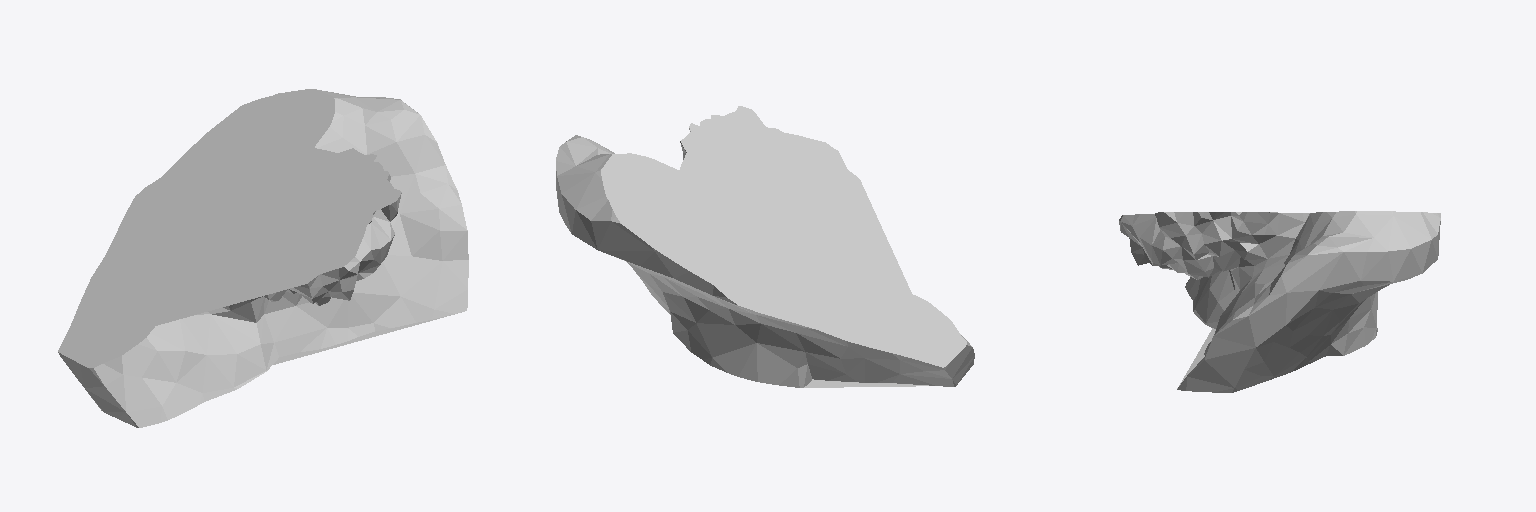
File: bust3.obj
3 views of the same model, side by side, from view 1: azimuth 30°, elevation 25°; view 2: azimuth 150°, elevation 25°; view 3: azimuth 270°, elevation 25° (orthographic).
Visible parts, largest first — view 1: hercules; view 2: hercules; view 3: hercules.
Boxes of the visible parts, box(x1,y1,x2,y2) form: hercules: box(58, 89, 468, 427); hercules: box(556, 106, 974, 387); hercules: box(1119, 211, 1440, 392).
Size of the model in its own units: 17.18 by 8.93 by 12.84.